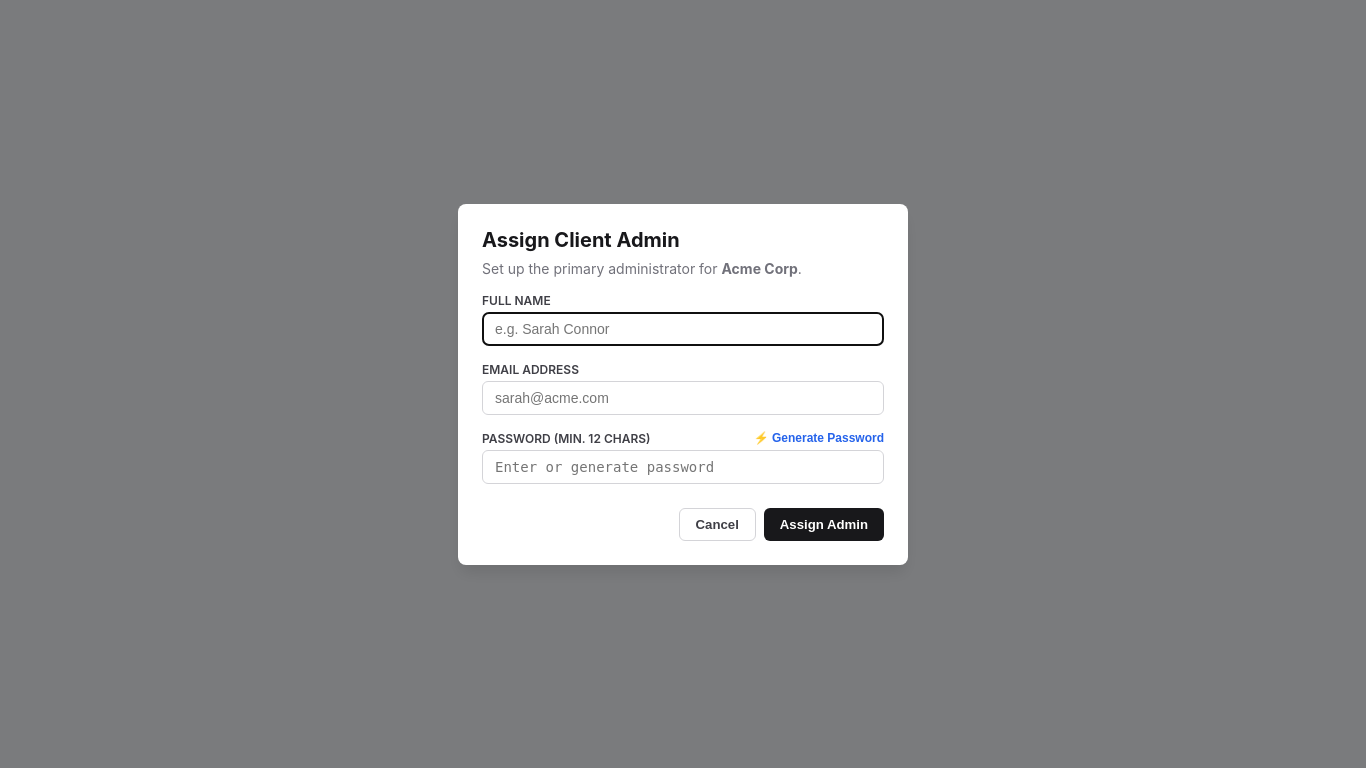
AssignAdminModal › should show error when password is less than 12 characters
Type "John Doe" into the field labelled "Full Name" at [683, 328], box [482, 312, 884, 346]
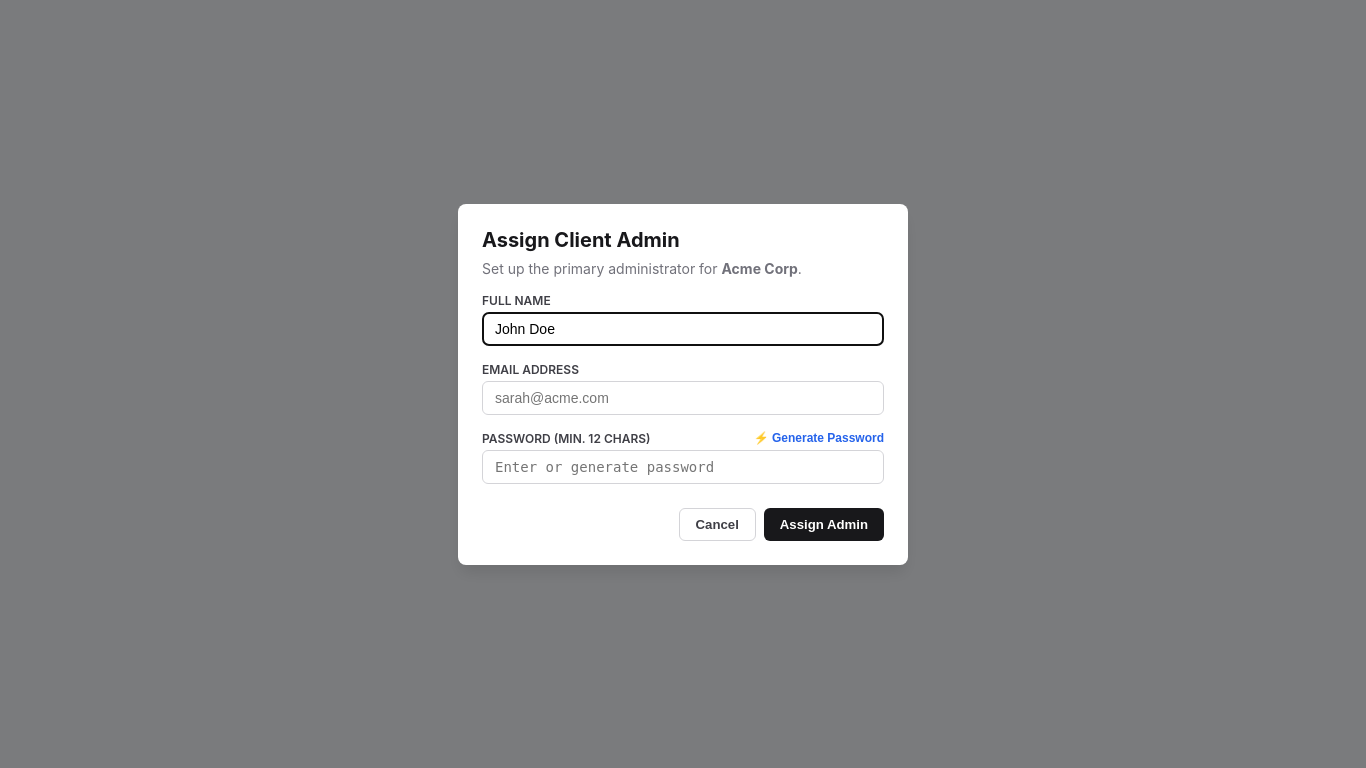
Type "john@acme.com" into the field labelled "Email Address" at [683, 398], box [482, 380, 884, 414]
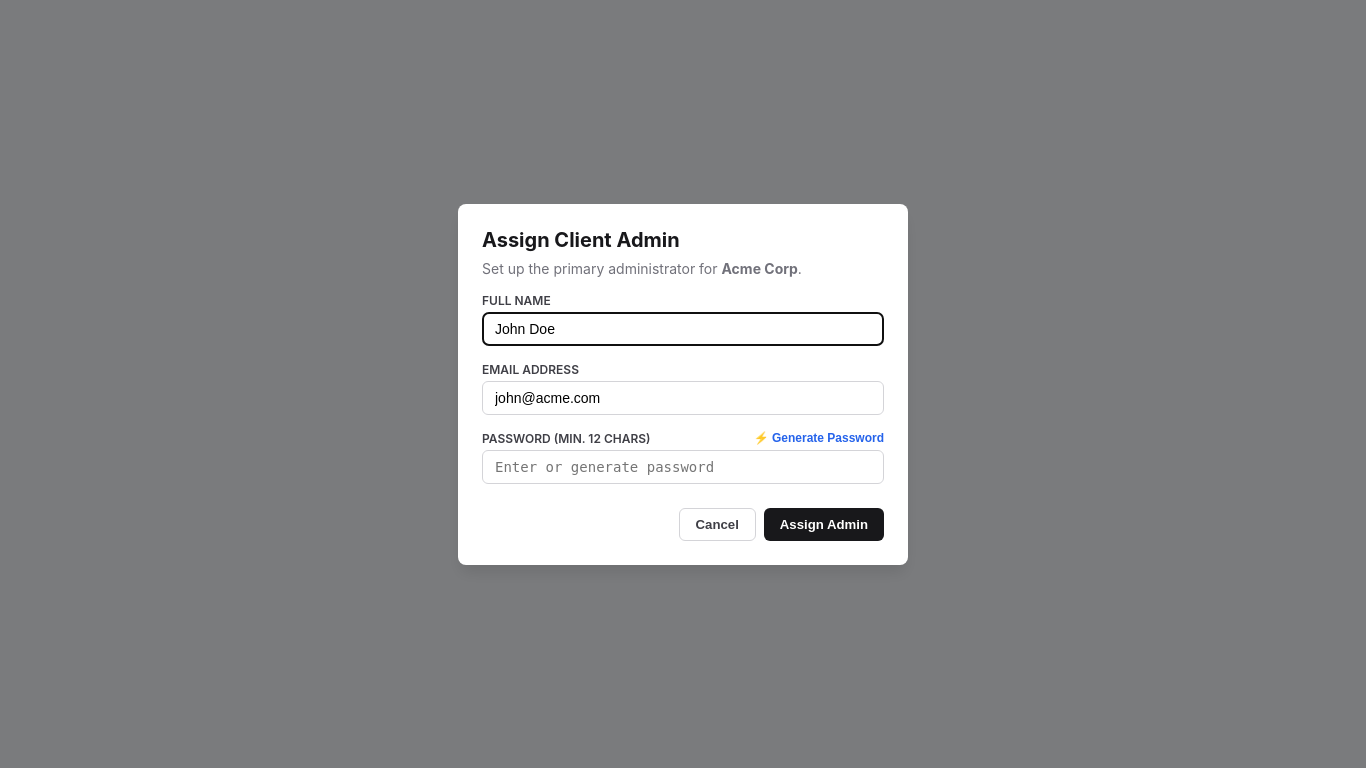
Type "short123" into the field labelled "Password (min. 12 chars)" at [683, 466], box [482, 450, 884, 484]
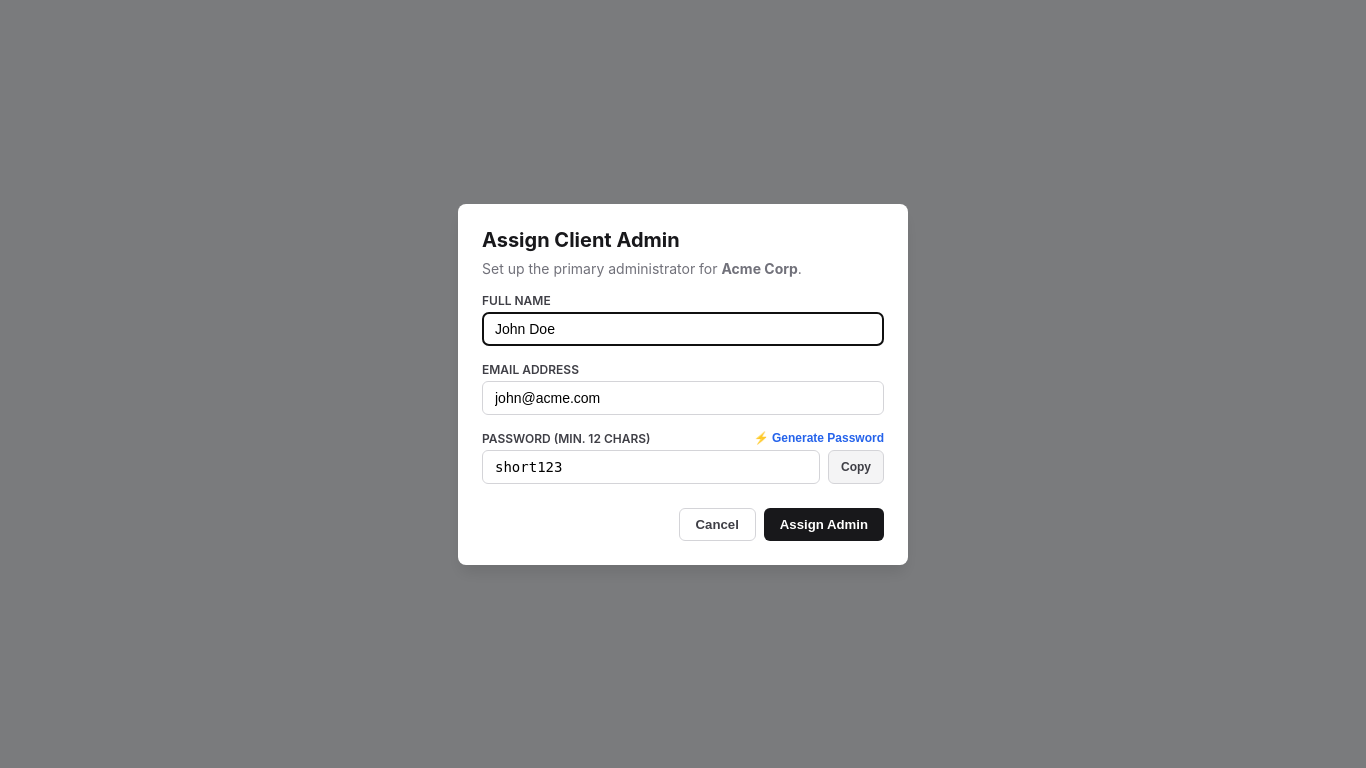
Click the button "Assign Admin" at [824, 524], box [764, 508, 884, 540]
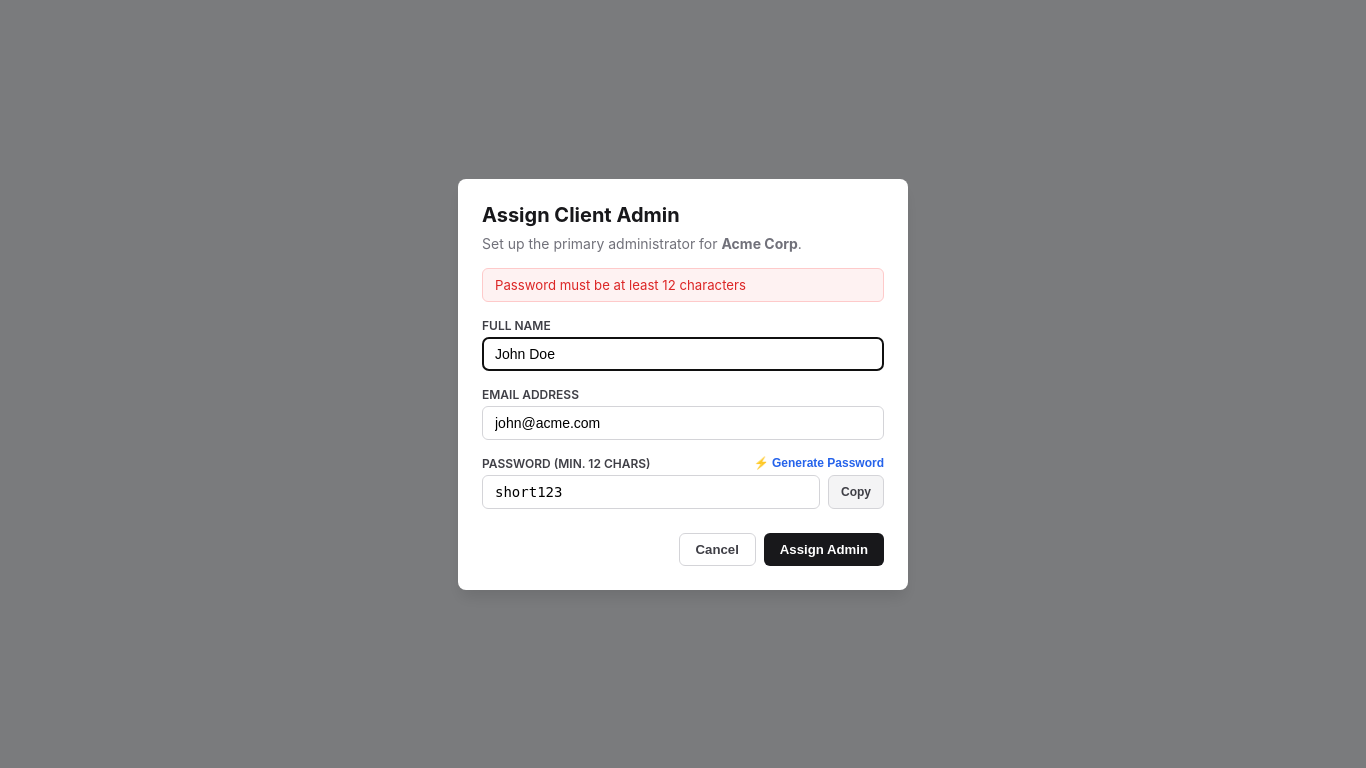
Check: the text "Password must be at least 12 characters" is shown, box [482, 268, 884, 302]
